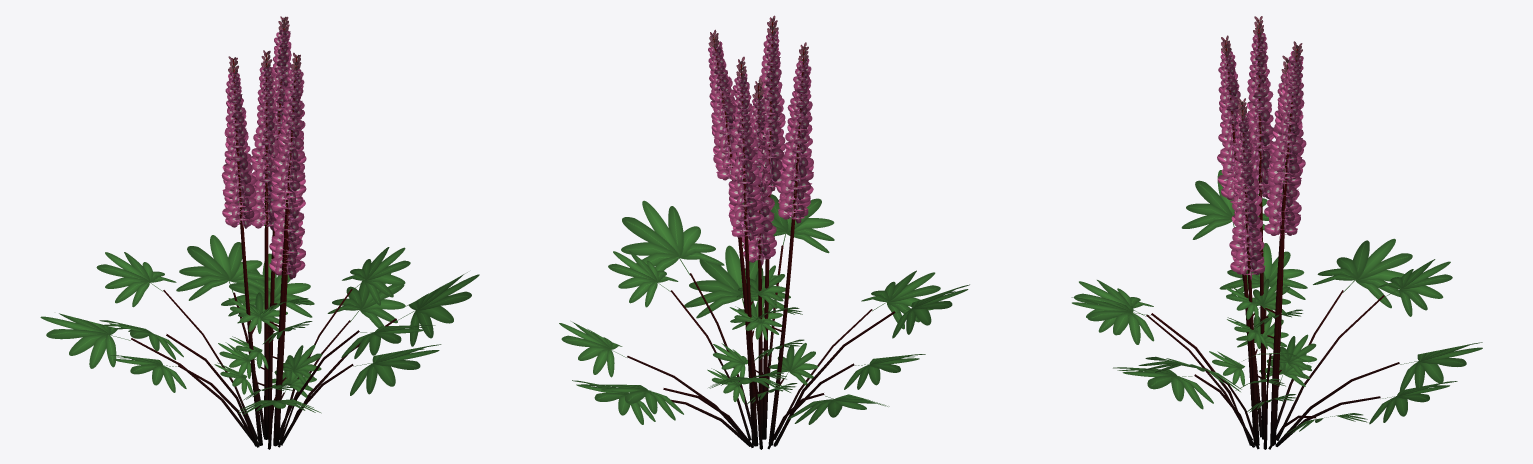
File: lupine_v03.glb
3 views of the same model, side by side, from view 1: azimuth 30°, elevation 25°; view 2: azimuth 150°, elevation 25°; view 3: azimuth 270°, elevation 25° (orthographic). The views are drawn at different scales.
Visible parts, largest first — view 1: lupine_v03; view 2: lupine_v03; view 3: lupine_v03.
Part boxes in pixels (x1,y1,x2,y2): lupine_v03: (40, 16, 479, 449); lupine_v03: (559, 15, 969, 449); lupine_v03: (1071, 16, 1482, 449).
Size of the model in its own units: 1.05 by 0.9973 by 1.05.
3 materials, 3 textured.
